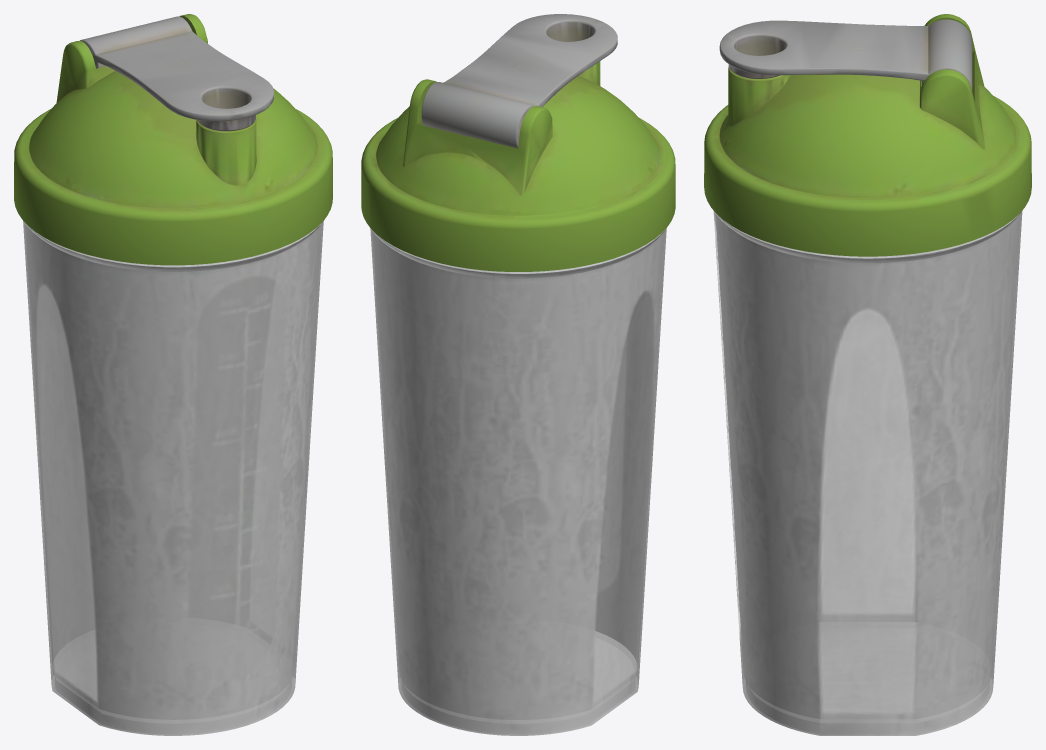
Rendered from shaker-bottle-mobile.glb.
3 views of the same model, side by side, from view 1: azimuth 30°, elevation 25°; view 2: azimuth 150°, elevation 25°; view 3: azimuth 270°, elevation 25° (orthographic). The views are drawn at different scales.
Visible parts, largest first — view 1: cup, cap, lid; view 2: cup, cap, lid; view 3: cup, cap, lid.
Part boxes in pixels (x1,y1,x2,y2): cup: (23, 219, 324, 735); cap: (14, 14, 332, 265); lid: (79, 16, 273, 131); cup: (369, 226, 666, 735); cap: (361, 61, 675, 271); lid: (421, 14, 617, 148); cup: (713, 210, 1022, 735); cap: (704, 14, 1031, 256); lid: (719, 19, 972, 90).
Size of the model in its own units: 183 by 397 by 183.
1 material, 1 textured.
